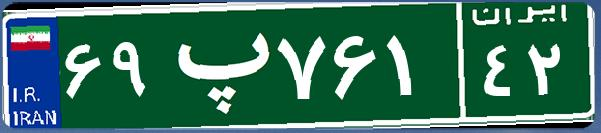1: (385, 28, 445, 110)
2: (525, 38, 570, 115)
4: (475, 38, 525, 113)
6: (330, 28, 385, 110), (57, 26, 110, 107)
7: (273, 28, 330, 110)
9: (110, 28, 158, 105)
پ: (158, 15, 273, 115)
